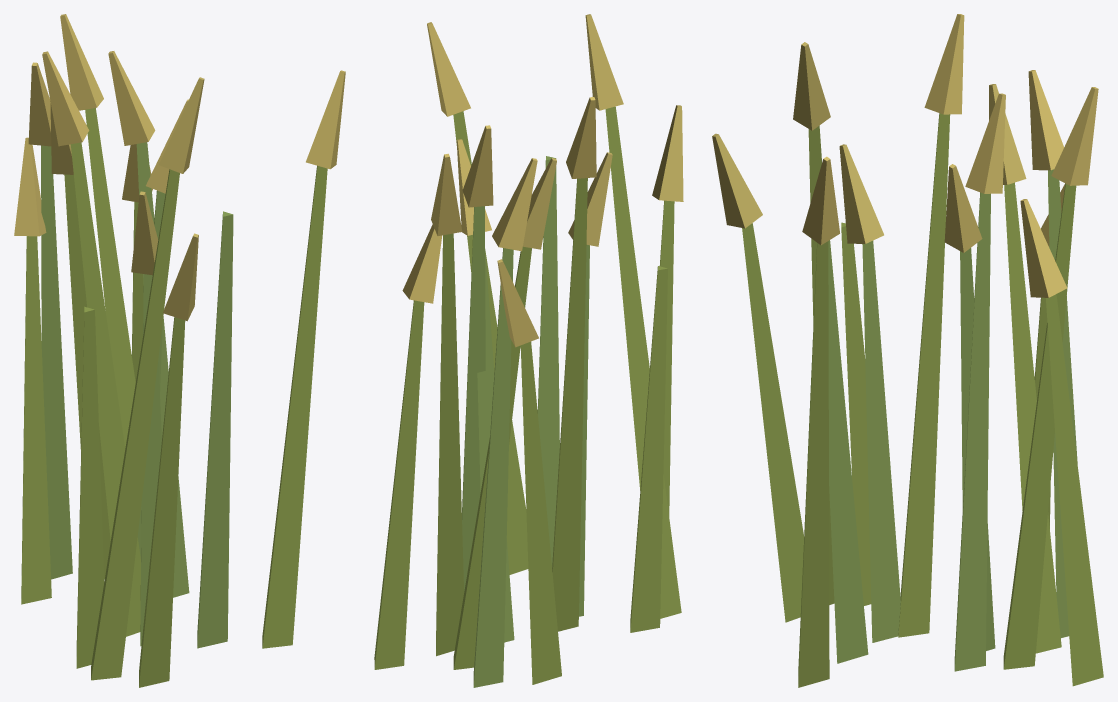
Rendered from cover_barley_a.glb.
The picture shows the model from 3 angles, left to right: view 1: azimuth 30°, elevation 25°; view 2: azimuth 150°, elevation 25°; view 3: azimuth 270°, elevation 25°; orthographic projection. The views are drawn at different scales.
Parts seen in each view (by area): view 1: cover_barley_a; view 2: cover_barley_a; view 3: cover_barley_a.
Part boxes in pixels (left/top/right/bottom): cover_barley_a: left=14, top=14, right=345, bottom=687; cover_barley_a: left=374, top=14, right=683, bottom=687; cover_barley_a: left=712, top=14, right=1103, bottom=687.
Bounding box in the file's own units: 0.5134 × 1.12 × 0.6594.
